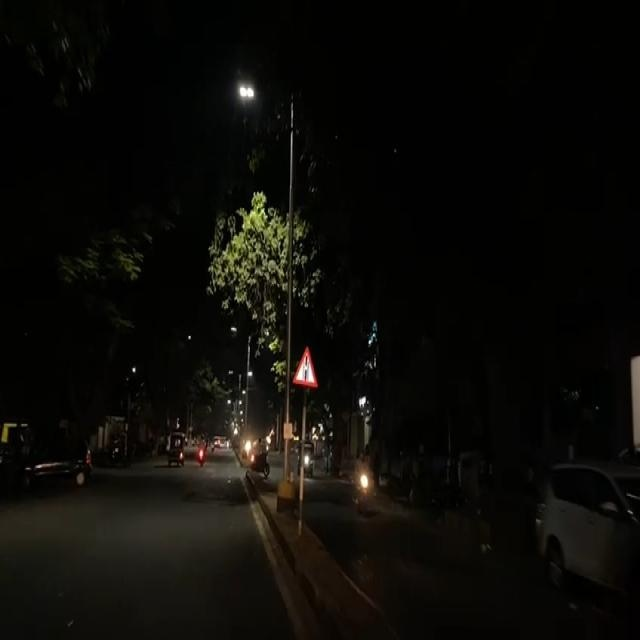bien_nguy_hiem: (292, 342, 319, 388)
